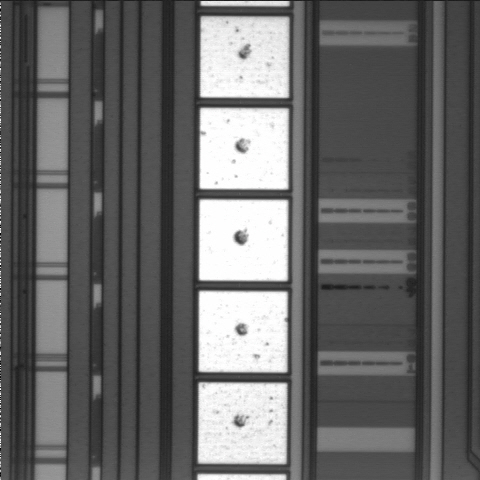pad: (200, 108, 289, 190), (199, 199, 288, 281), (200, 17, 289, 98), (199, 291, 288, 372), (198, 383, 287, 464)
